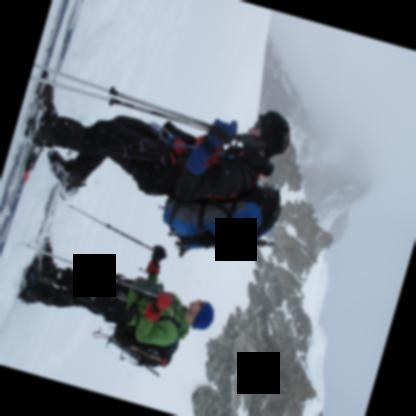backpack: (159, 188, 279, 256), (112, 302, 178, 367)
